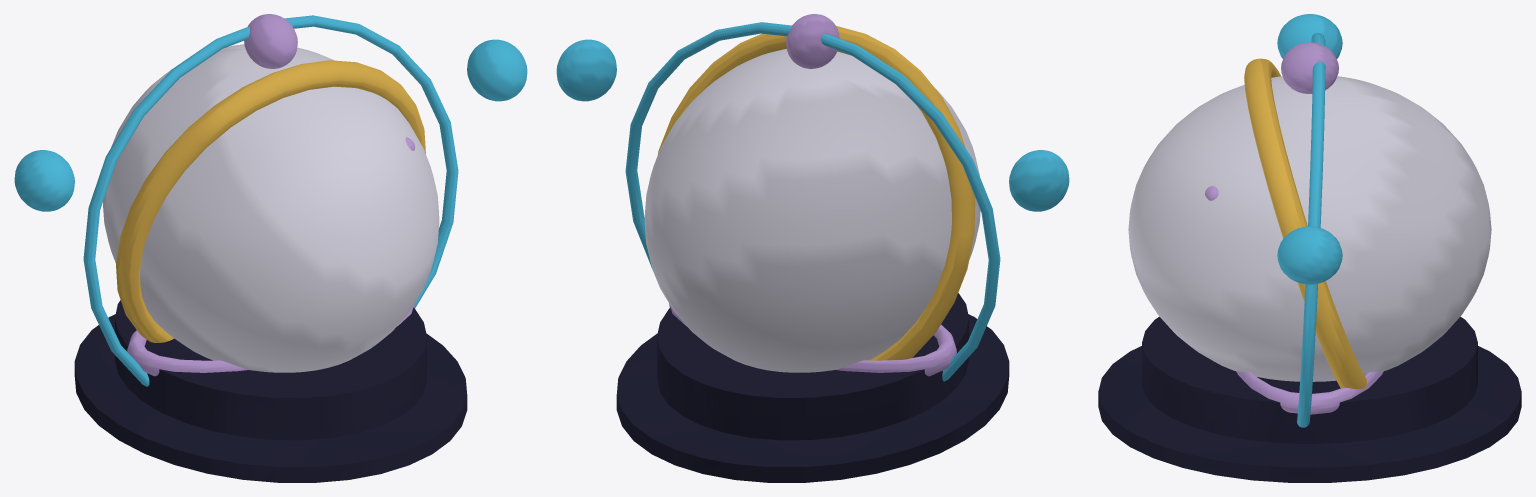
The model's file is 0048_天文图鉴_彗星.glb.
3 views of the same model, side by side, from view 1: azimuth 30°, elevation 25°; view 2: azimuth 150°, elevation 25°; view 3: azimuth 270°, elevation 25° (orthographic). The views are drawn at different scales.
Visible parts, largest first — view 1: card_0048; view 2: card_0048; view 3: card_0048.
Boxes of the visible parts, <box> form: card_0048: <box>14,14,527,482</box>; card_0048: <box>556,14,1069,482</box>; card_0048: <box>1098,14,1521,482</box>.
Size of the model in its own units: 1.35 by 1 by 1.03.
